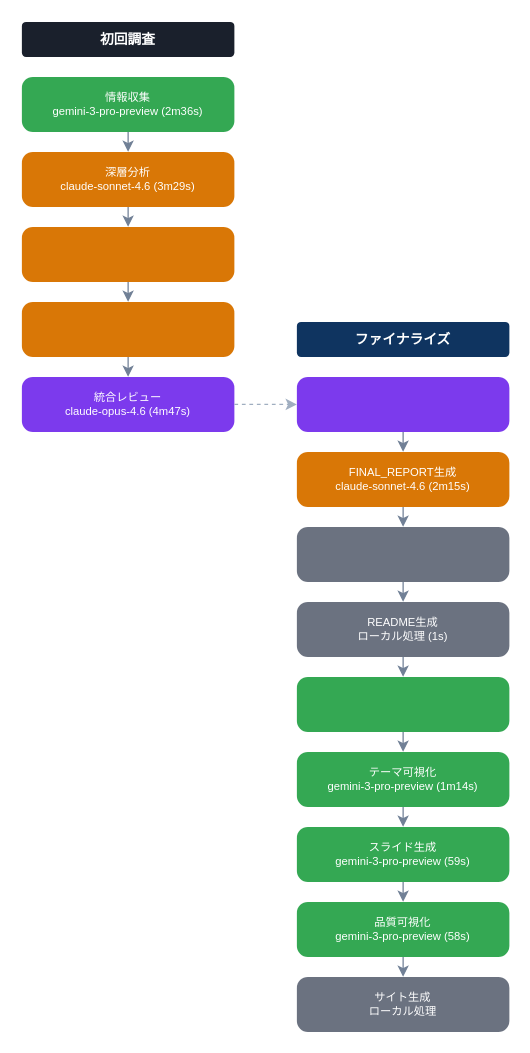
This 530x1053 diagram has some shape labels left out. The shapes that lost their labels are listed below. From the top down, each one's centre as x and y in pixels, then its label:
At (127,253): "深層分析 claude-sonnet-4.6 (6m43s)".
At (127,328): "再検証 claude-sonnet-4.6 (1m50s)".
At (402,403): "統合分析 claude-opus-4.6 (2m34s)".
At (402,553): "Sources Registry ローカル処理 (1s)".
At (402,703): "関係図生成 gemini-3-pro-preview (56s)".
